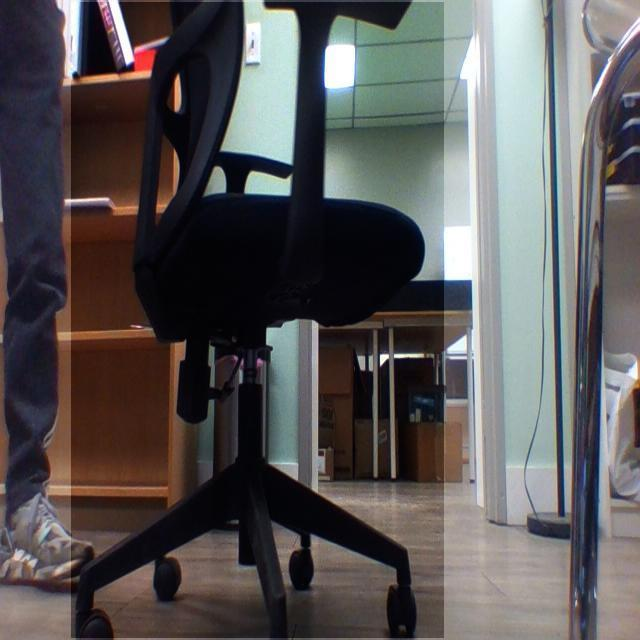chair: (72, 0, 445, 640)
